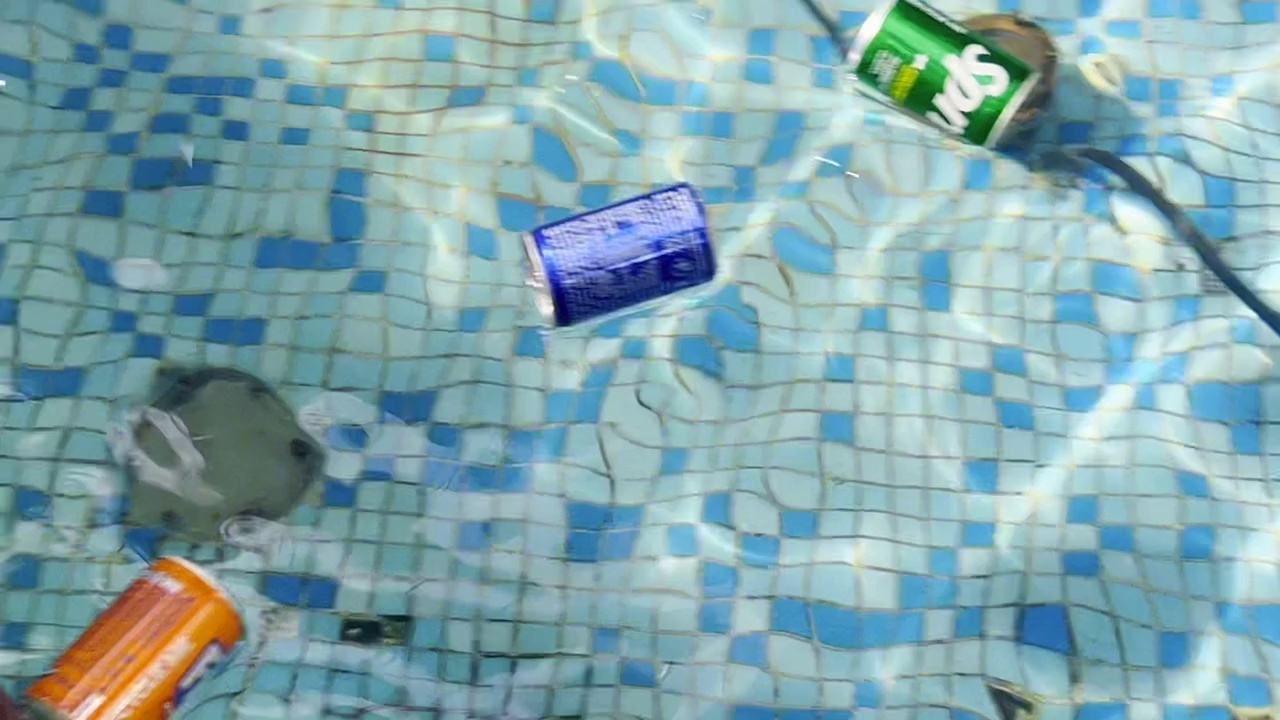debris: (18, 539, 258, 719), (508, 170, 733, 339), (828, 0, 1047, 169)
